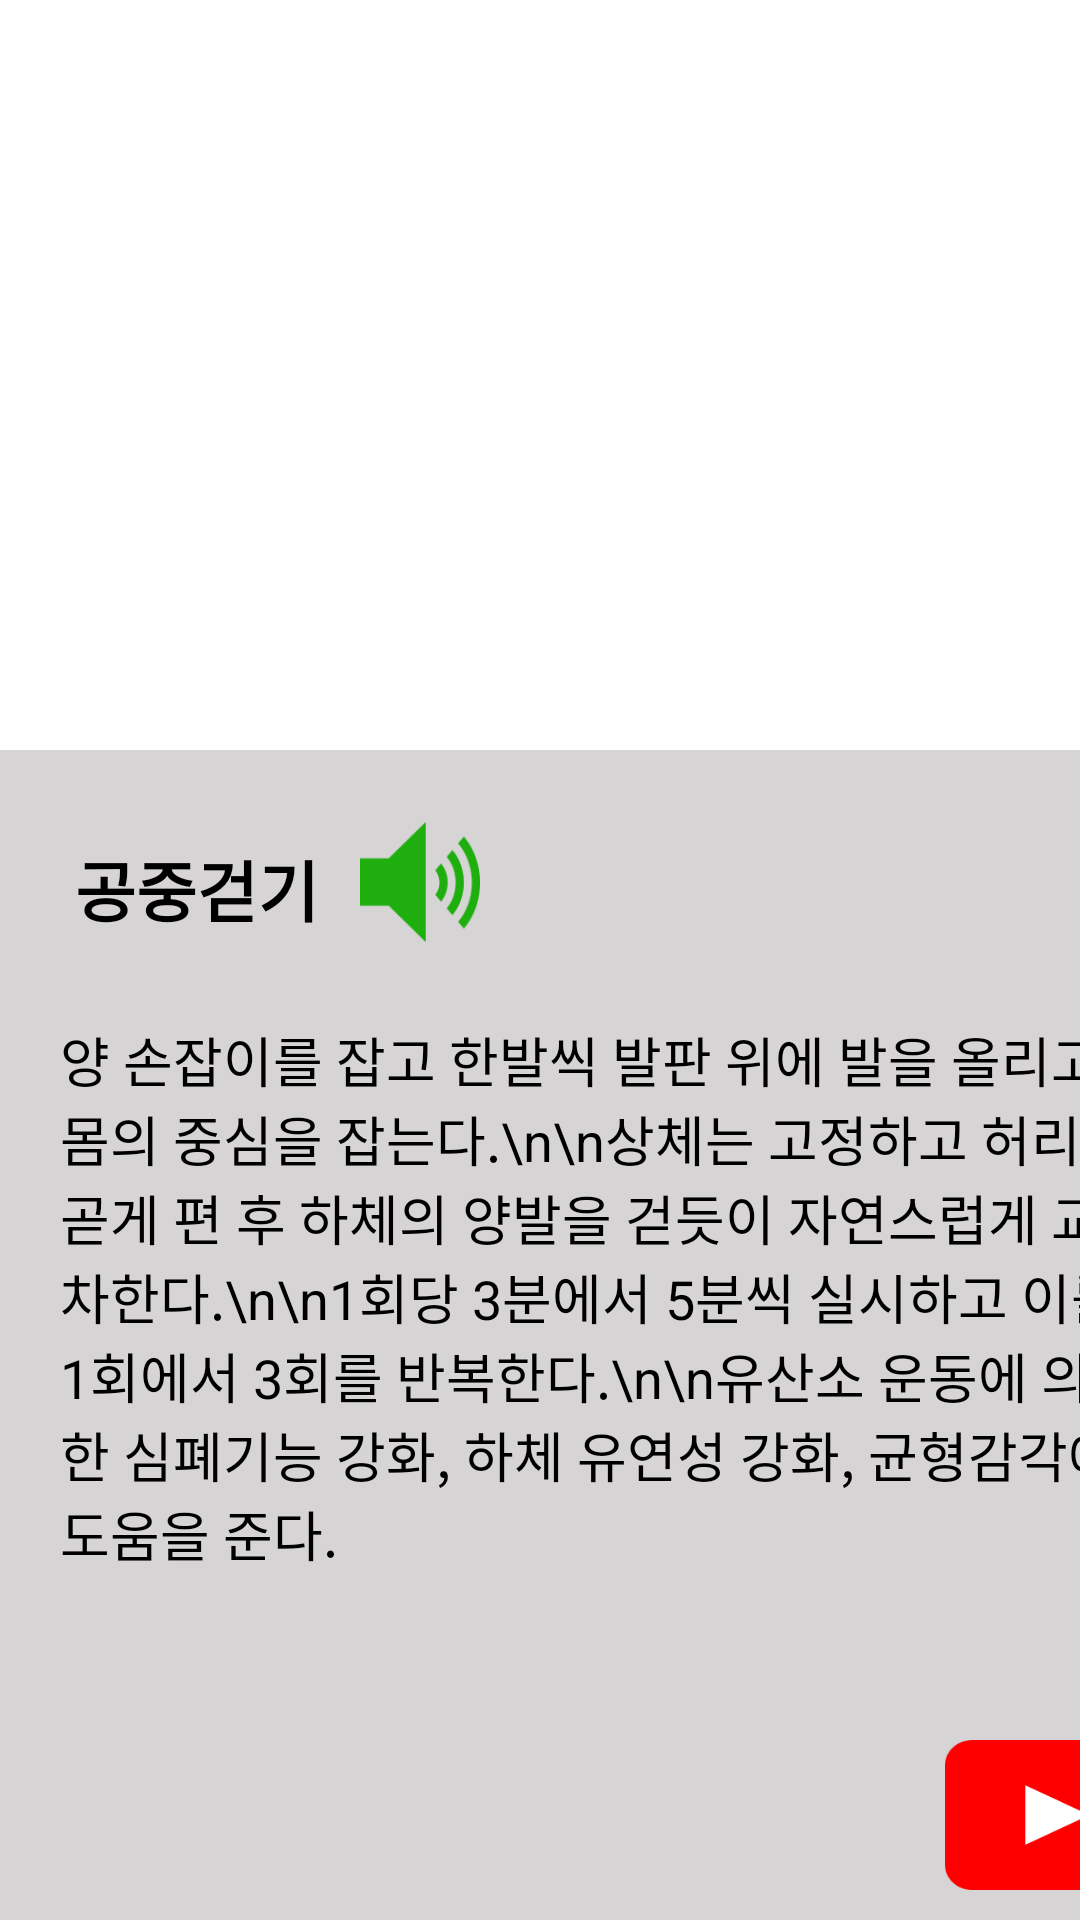

Icons on this 1080w x 1920h Android screen, each with its box as bbox=(x1, y1, x2, y2):
sound: bbox=(360, 822, 480, 942)
